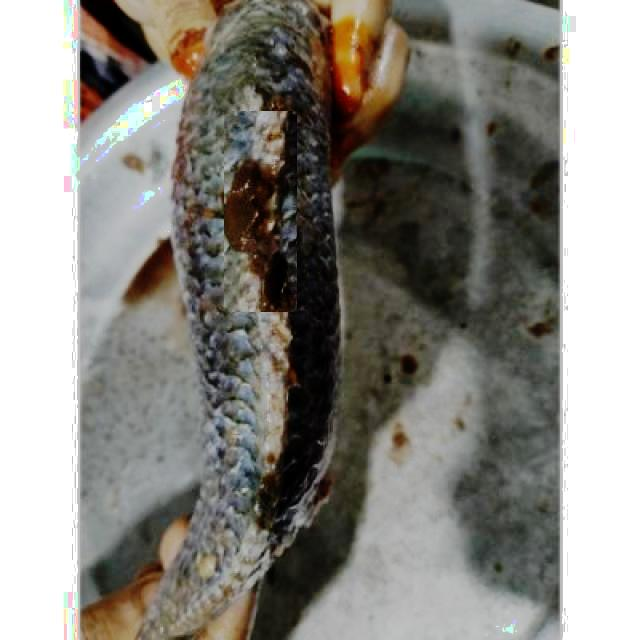Aeromonas Septicemia: (133, 0, 340, 640)
